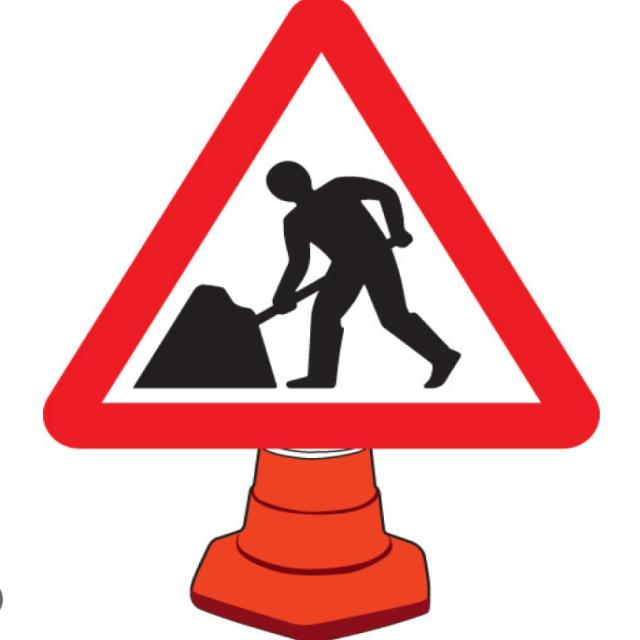WORKERS: (43, 0, 599, 448)
